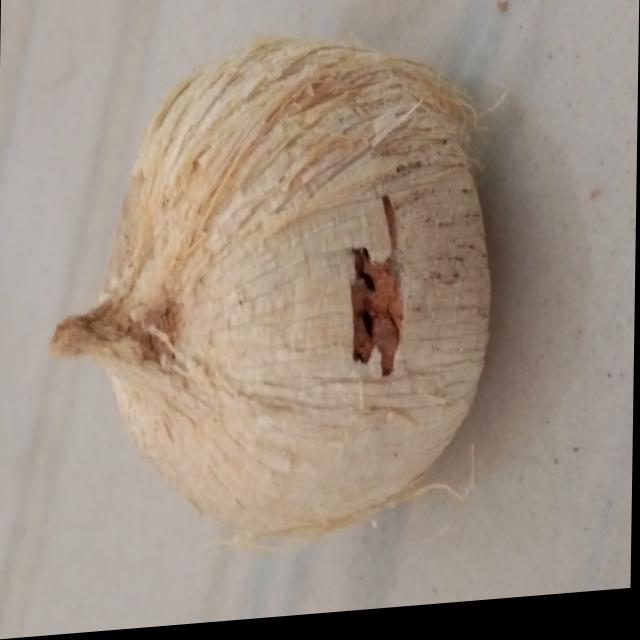phatora: (45, 23, 504, 576)
